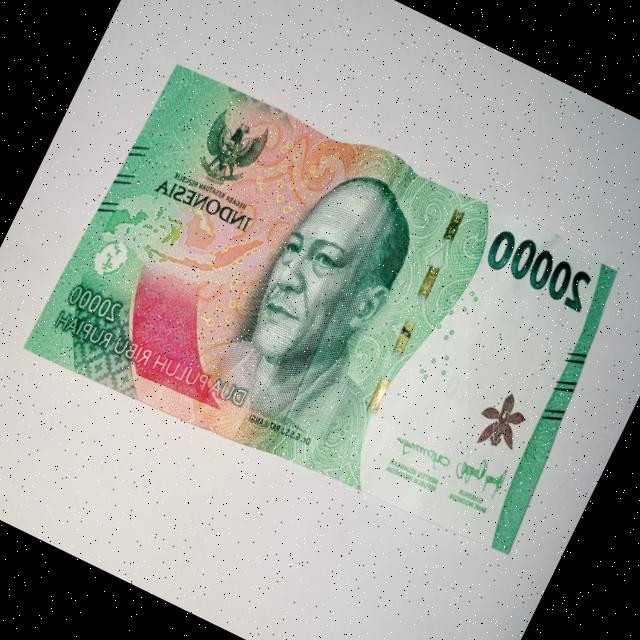20K: (9, 39, 640, 592)
